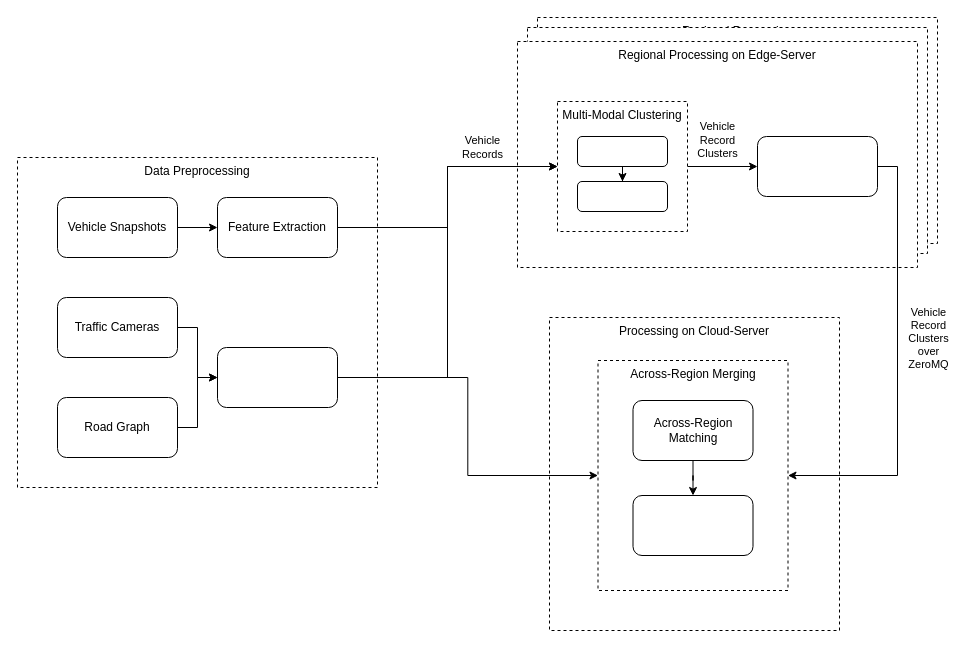
This 965x648 diagram has some shape labels left out. The centre of each missing label's shape, as x and y in pixels:
"Fine Search" belongs at (x=622, y=196).
"Map-Matching" belongs at (x=817, y=166).
"Region Partitioning" belongs at (x=277, y=377).
"Rough Search" belongs at (x=622, y=151).
"Vehicle Record Cluster Merging" belongs at (x=692, y=525).
